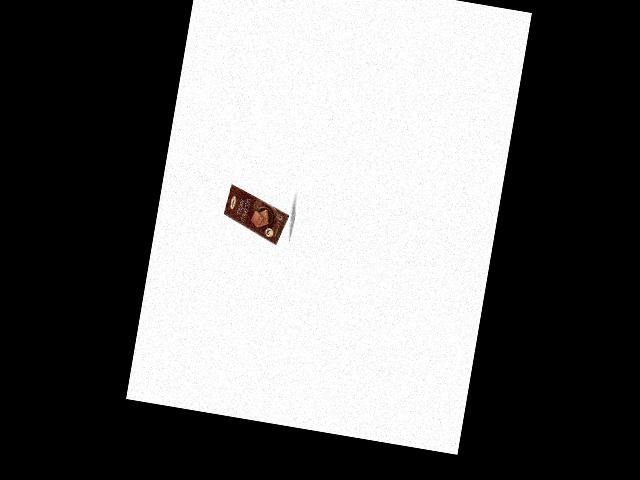chocolate: (219, 182, 295, 248)
